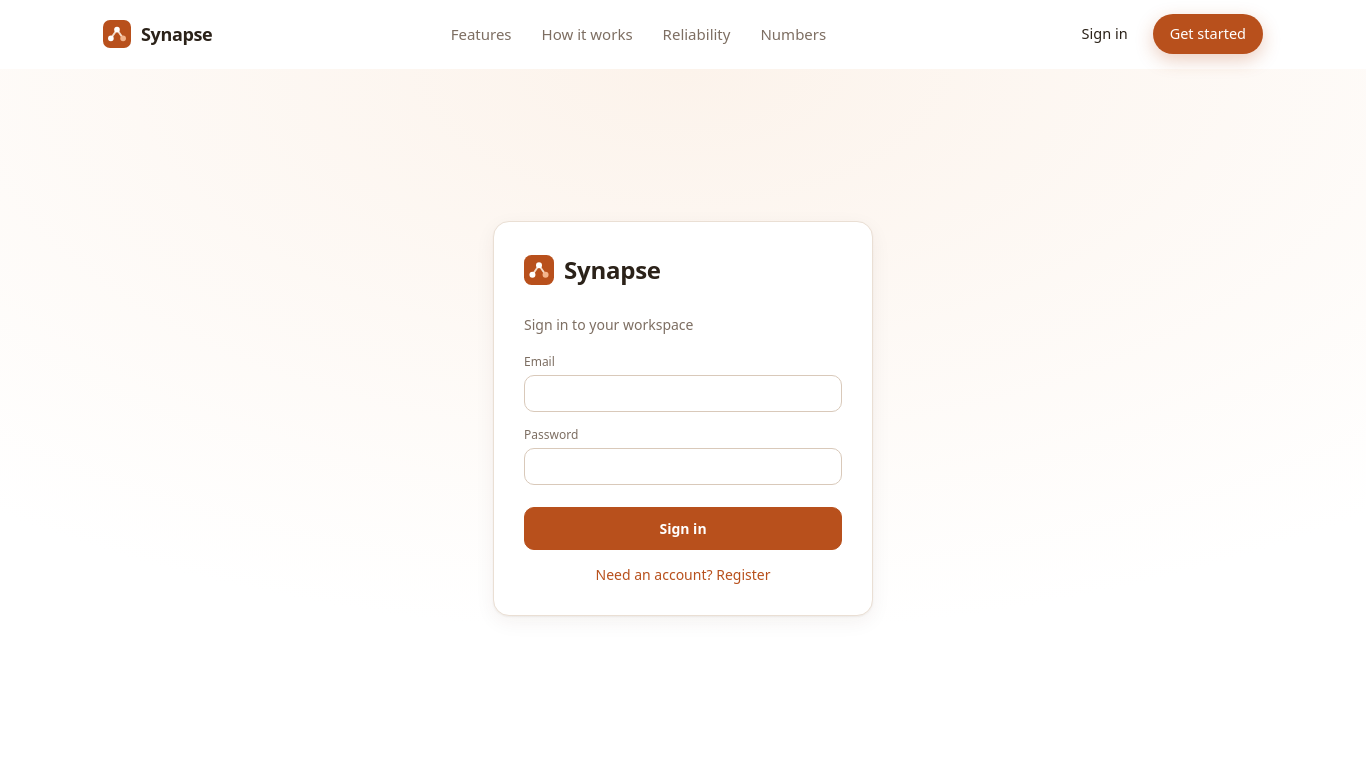
Test: app shell › shows API errors on failed login
The width and height of the screenshot is (1366, 768).
Type "a@b.co" into the field labelled "Email" at (683, 394), box [524,375,842,412]
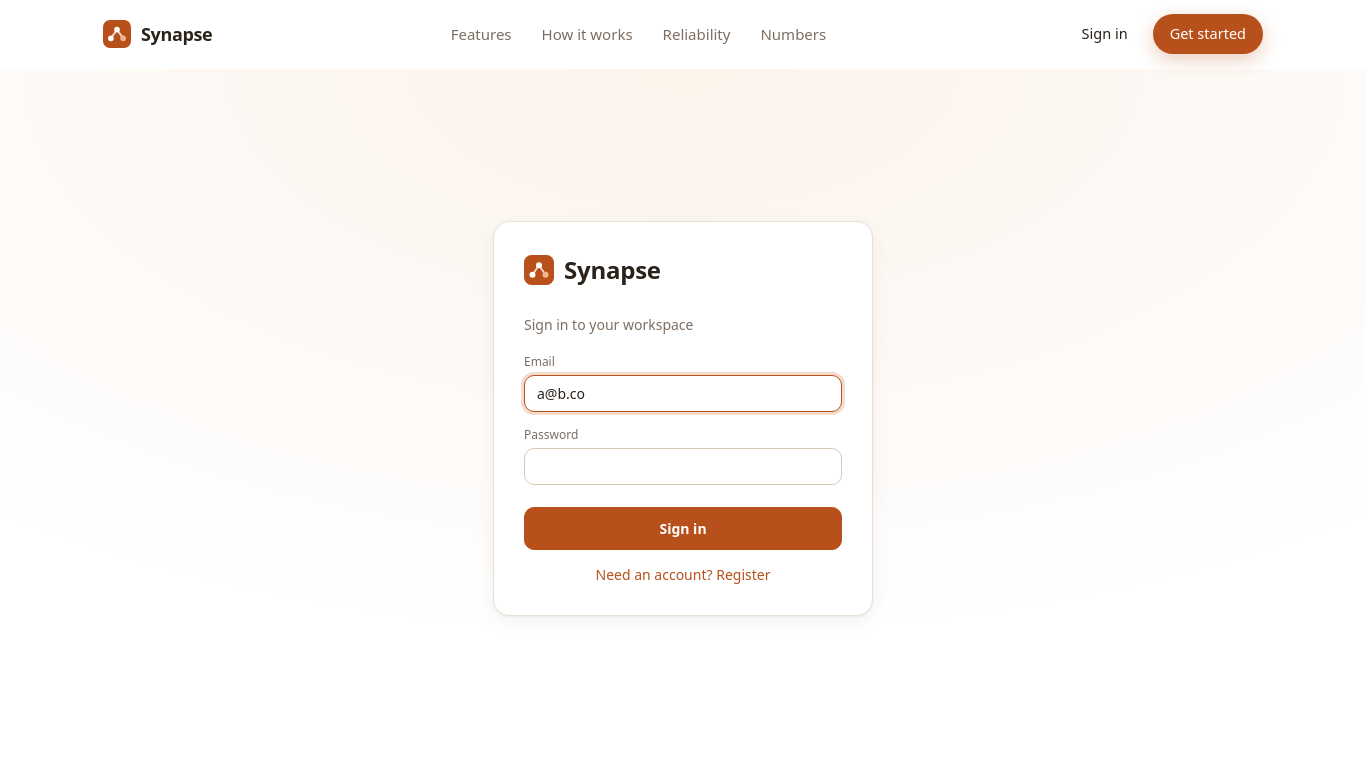
Type "wrongpassword" into the password field labelled "Password" at (683, 466), box [524,448,842,485]
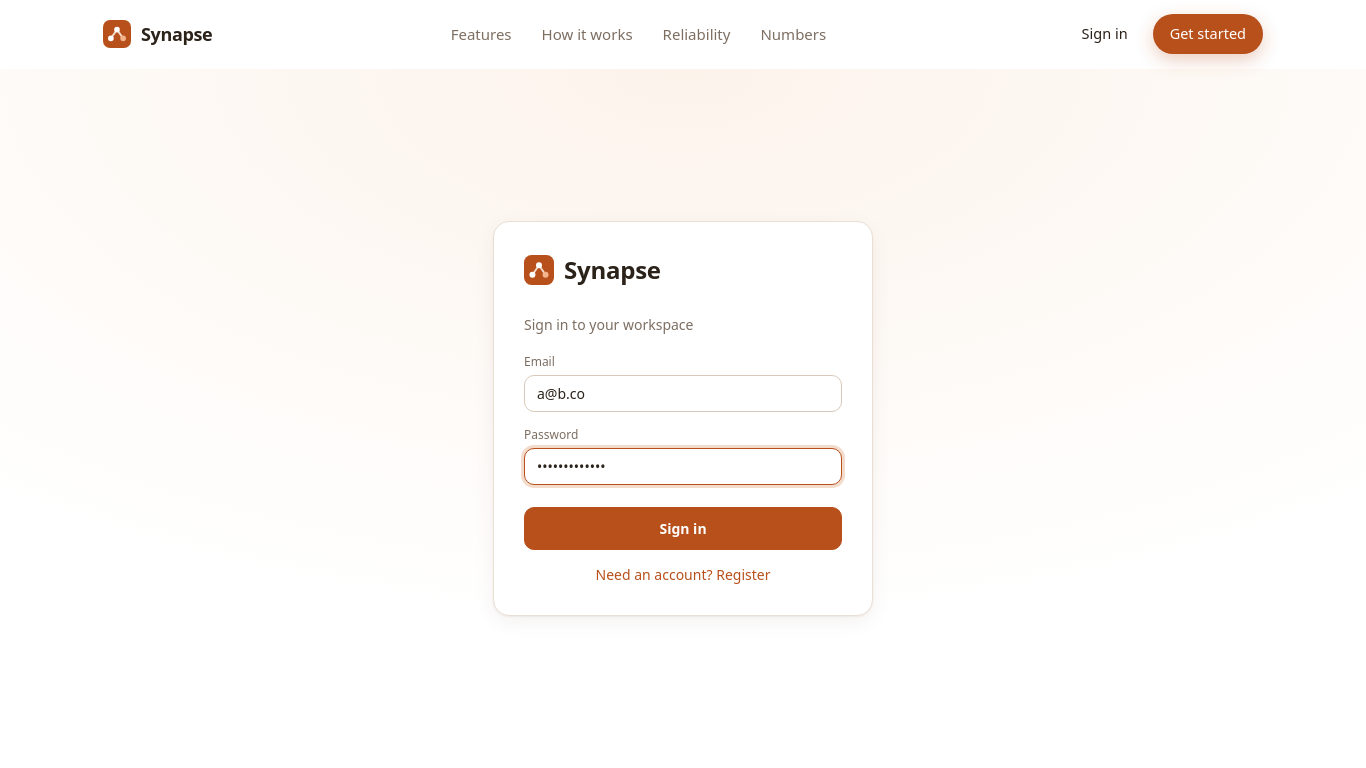
Click the button "Sign in" at (683, 528), box [524,507,842,550]
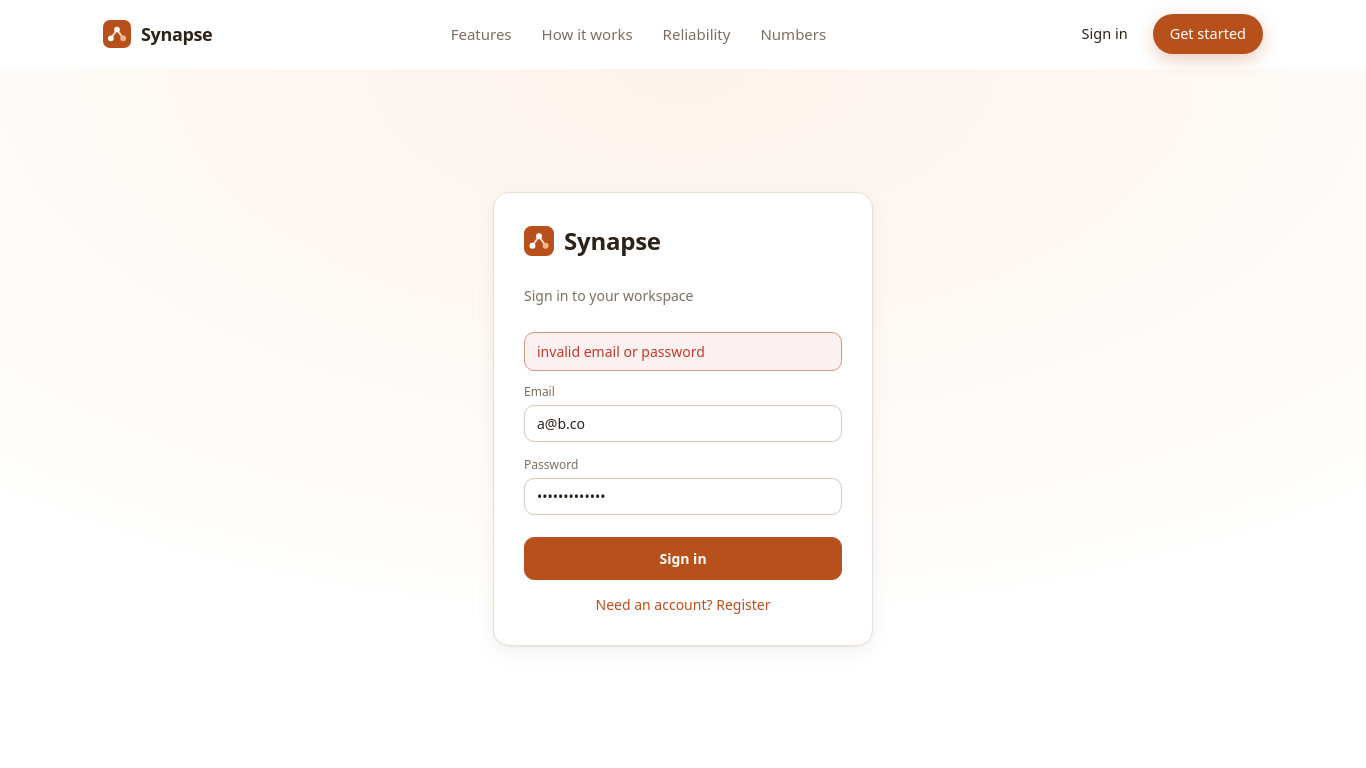
Expected: the message reads "invalid email or password", [537,342,705,360]
